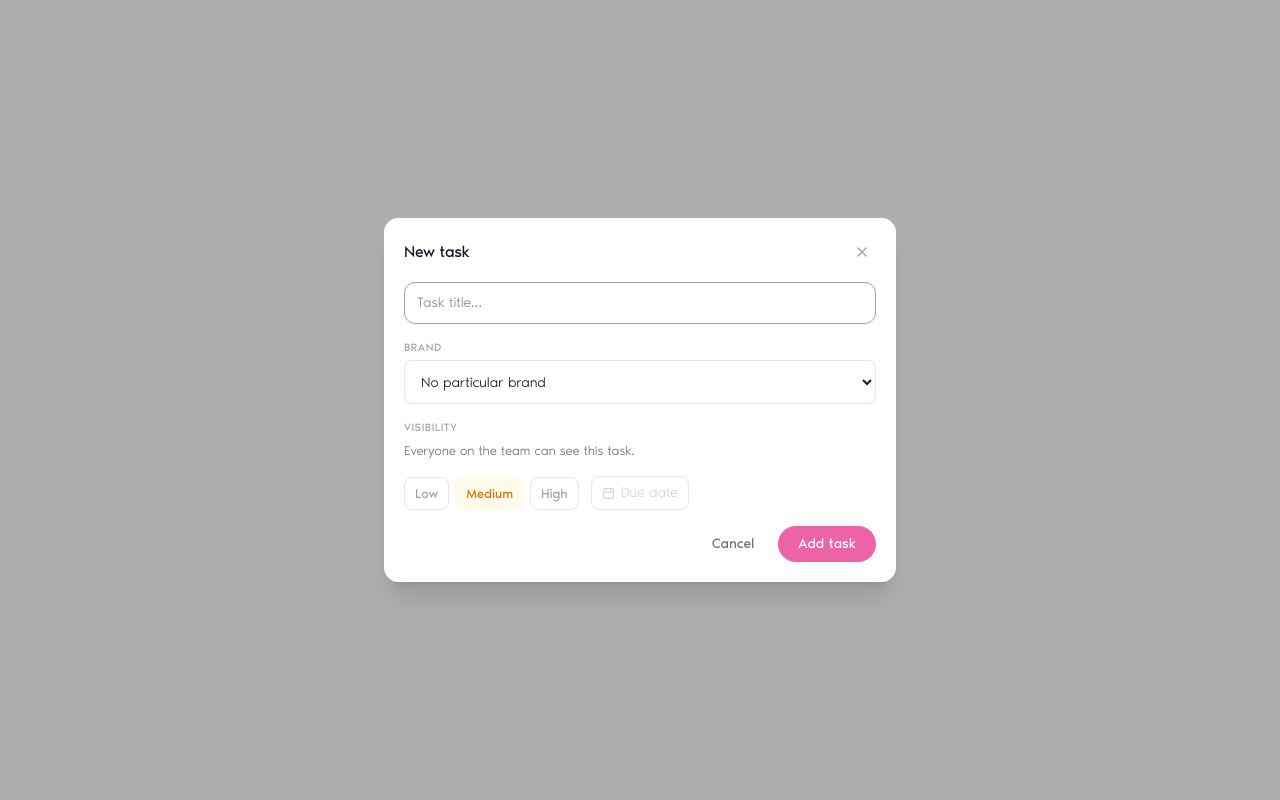
Test: NewTaskModal — unassigned team task › asks before raising work nobody is on
Type "Nobody on this" into the field with placeholder "Task title…" at [640, 303], box [404, 282, 876, 324]
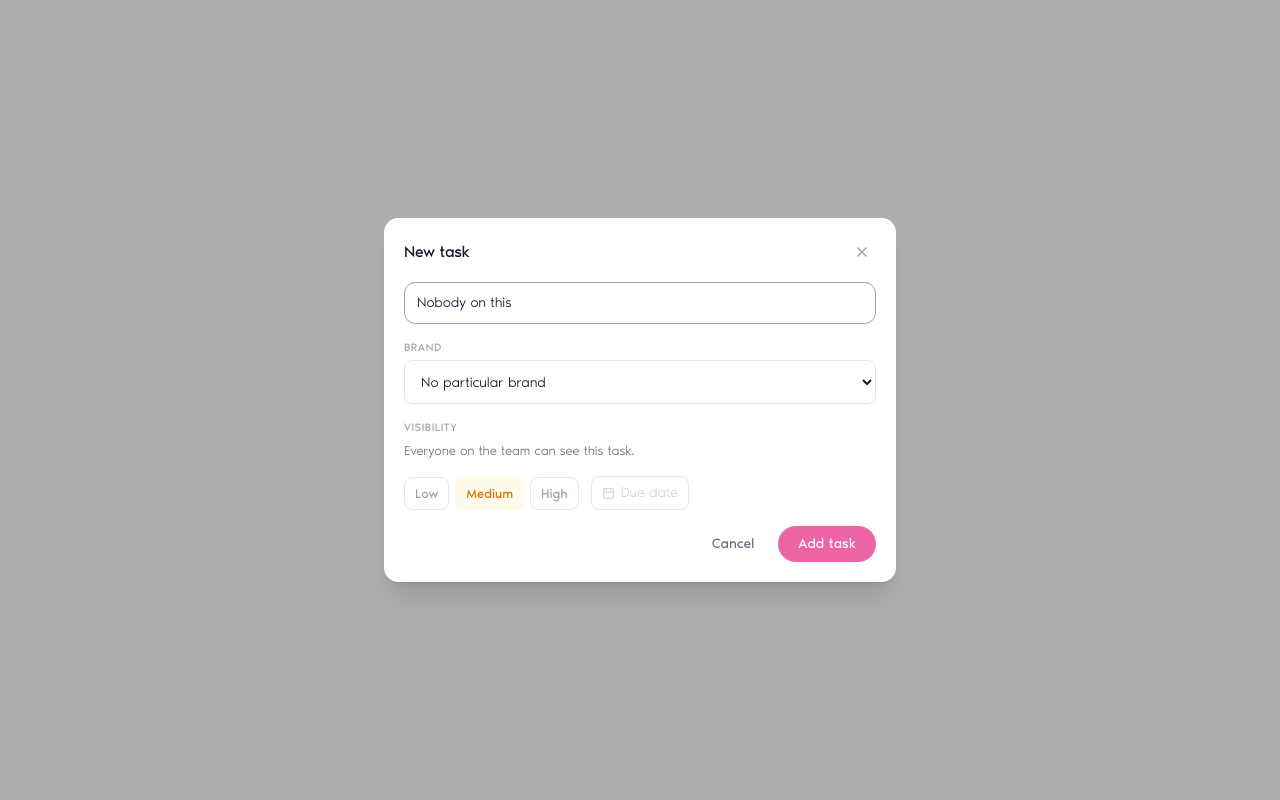
Click the button "Add task" at [827, 544], box [778, 526, 876, 562]
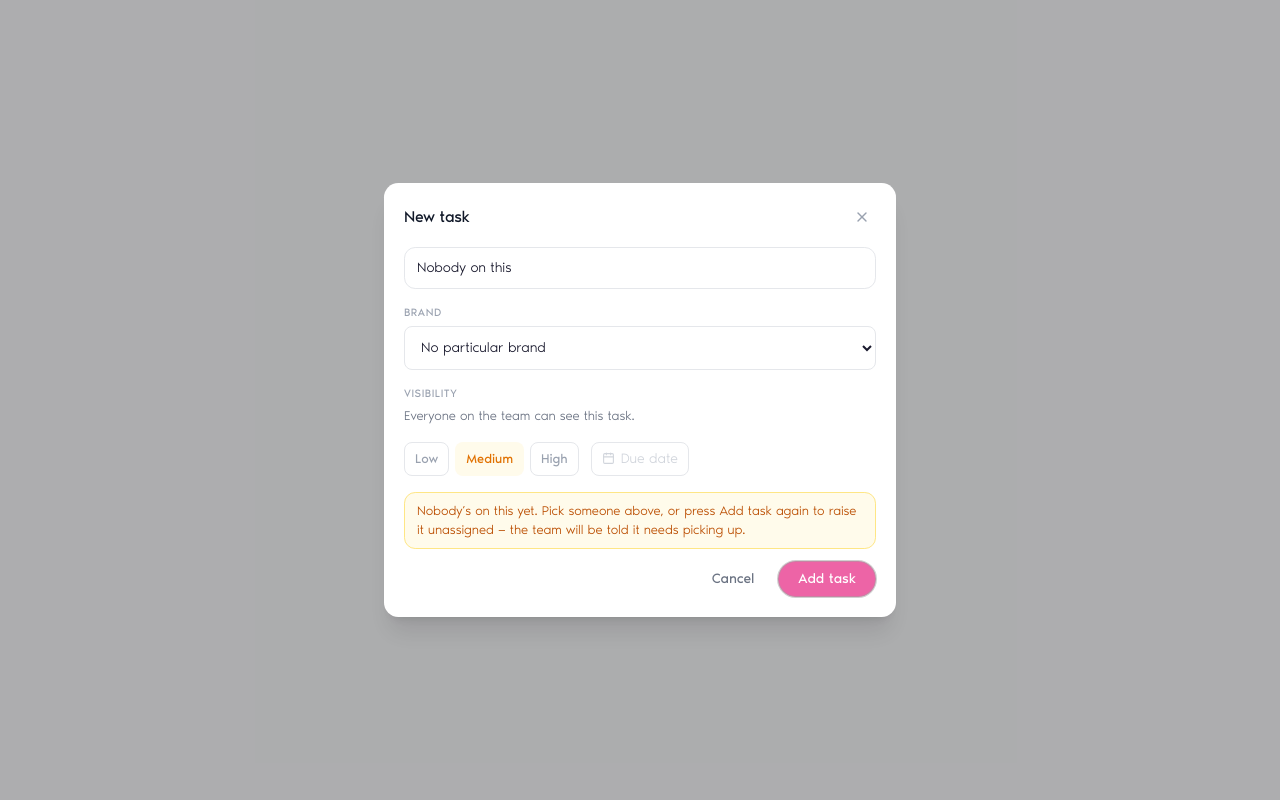
Result: the text "Nobody’s on this yet" is shown at [417, 503, 856, 537]
